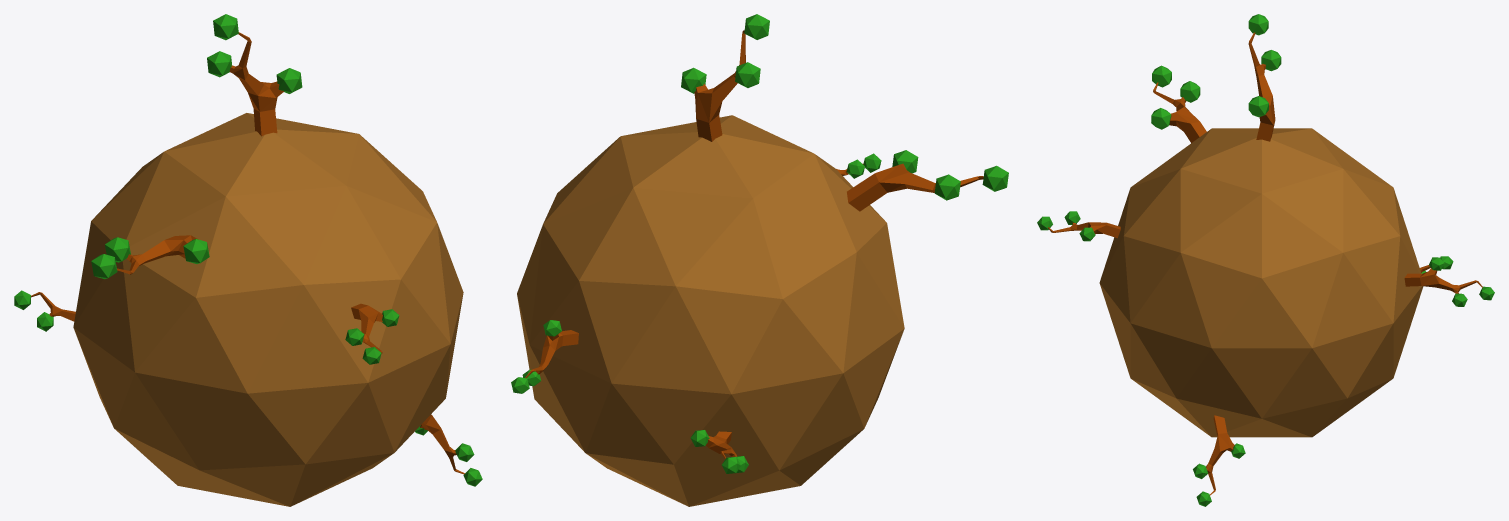
The model's file is planet.dae.
3 views of the same model, side by side, from view 1: azimuth 30°, elevation 25°; view 2: azimuth 150°, elevation 25°; view 3: azimuth 270°, elevation 25° (orthographic). The views are drawn at different scales.
Parts seen in each view (by area): view 1: Icosphere.004; view 2: Icosphere.004; view 3: Icosphere.004.
Part boxes in pixels (left/top/right/bottom): Icosphere.004: left=14, top=14, right=482, bottom=506; Icosphere.004: left=511, top=14, right=1008, bottom=506; Icosphere.004: left=1037, top=14, right=1494, bottom=506.
Size of the model in its own units: 0.4231 by 0.4979 by 0.4875.
